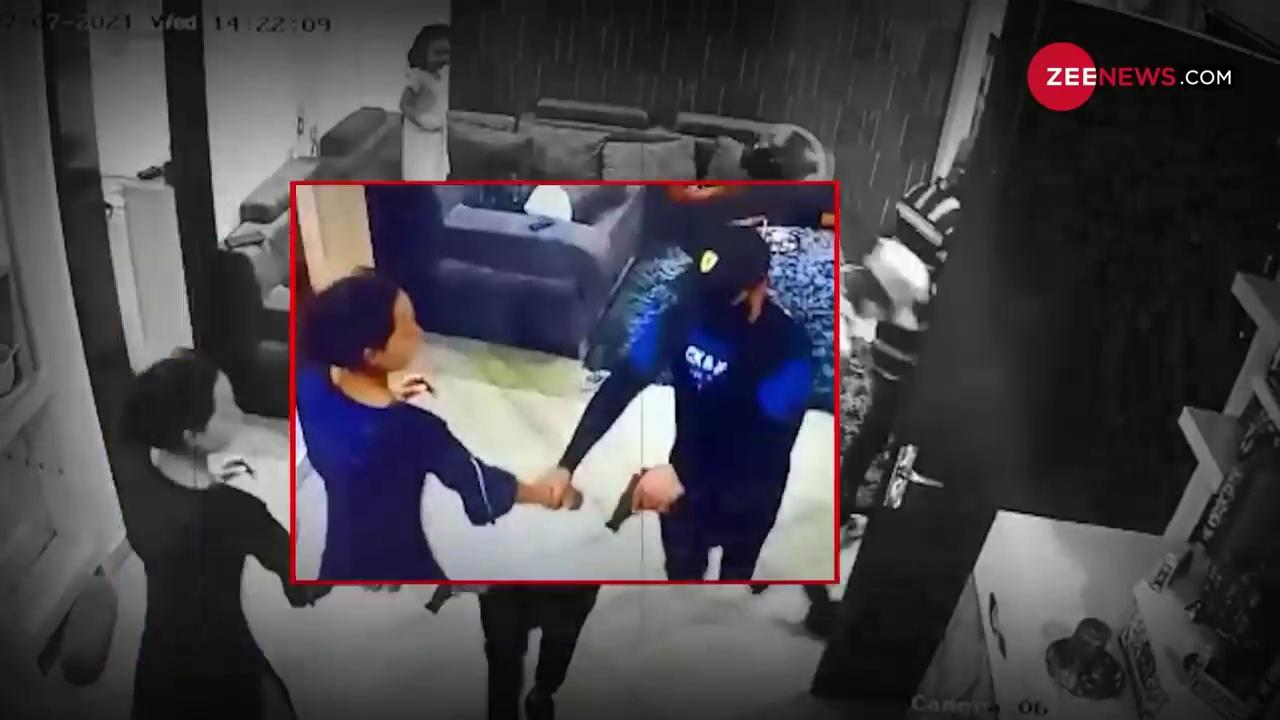weapon: (603, 470, 662, 535)
